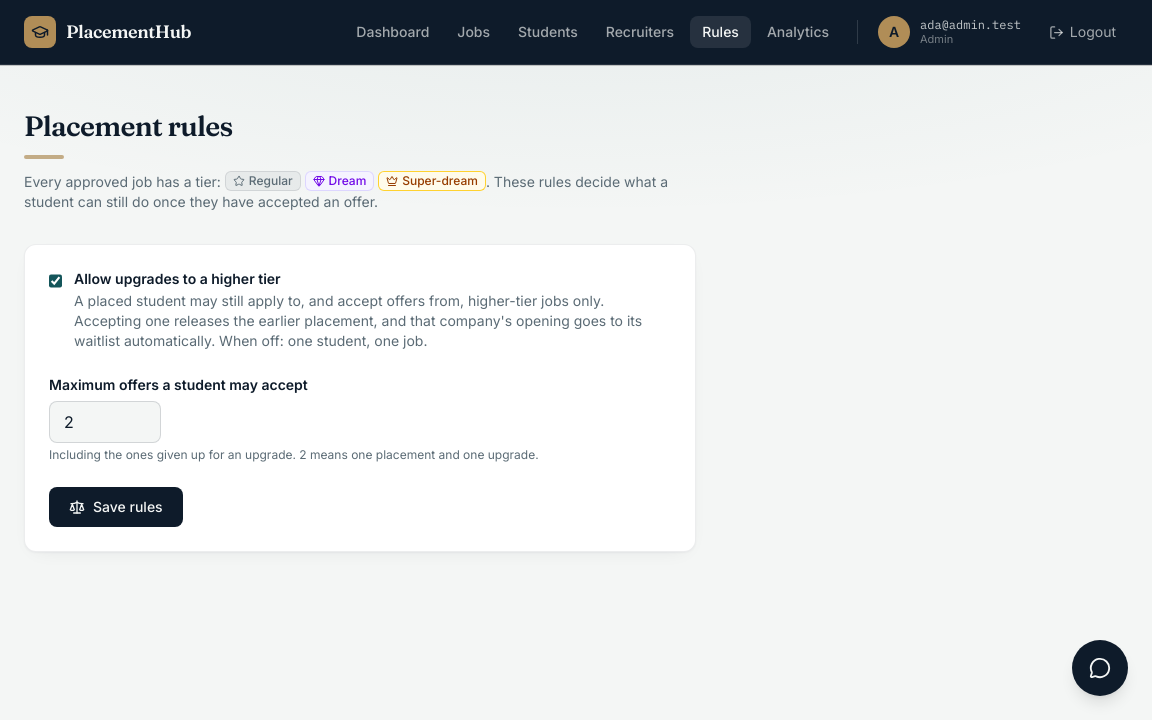
Scenario: Placement rules page › shows the server's validation message
Click the button "Save rules". click: click(116, 507)
box: left=49, top=487, right=183, bottom=527
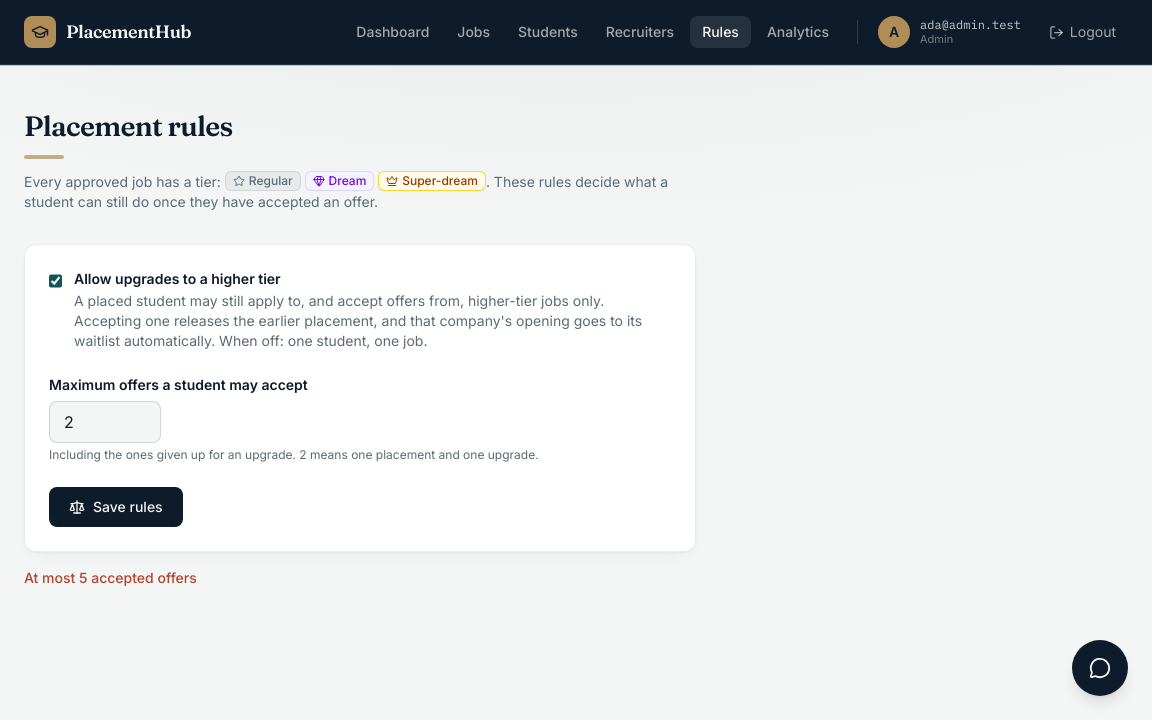
Now the message reads "At most 5 accepted offers", box left=24, top=569, right=197, bottom=586
